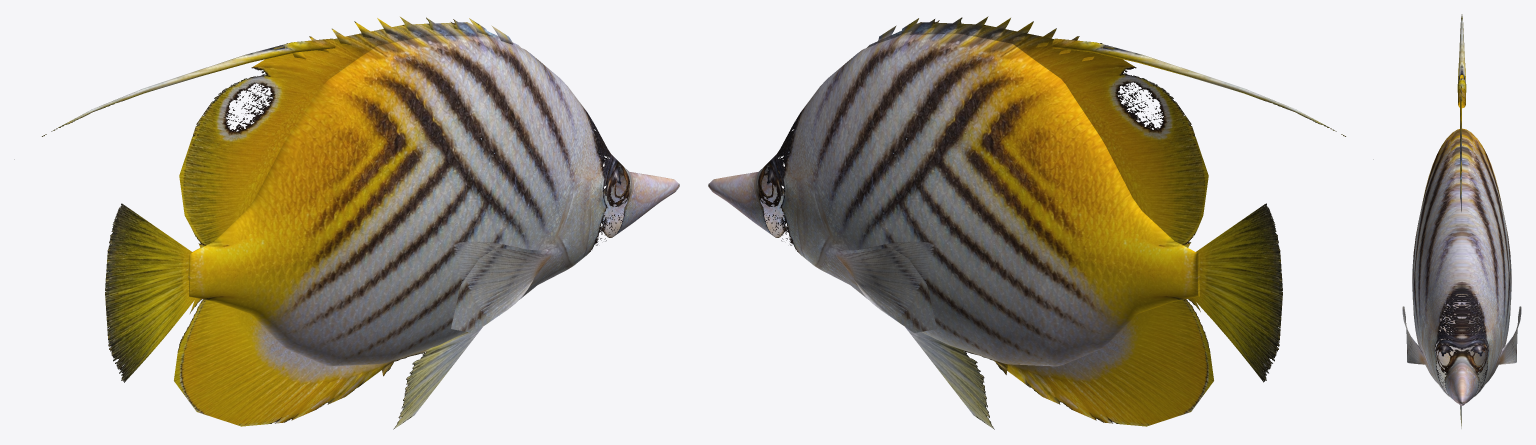
The model's file is threadfin.glb.
3 renders of one model, left to right at view 1: azimuth 30°, elevation 25°; view 2: azimuth 150°, elevation 25°; view 3: azimuth 270°, elevation 25°, orthographic. The views are drawn at different scales.
Parts seen in each view (by area): view 1: Chaetodon auriga; view 2: Chaetodon auriga; view 3: Chaetodon auriga.
Boxes of the visible parts, x1,y1,x2,y2 form: Chaetodon auriga: (14,17,679,429); Chaetodon auriga: (708,16,1373,429); Chaetodon auriga: (1402,14,1521,428).
Bounding box in the file's own units: 0.2778 × 0.1675 × 0.0569.
1 material, 1 textured.
